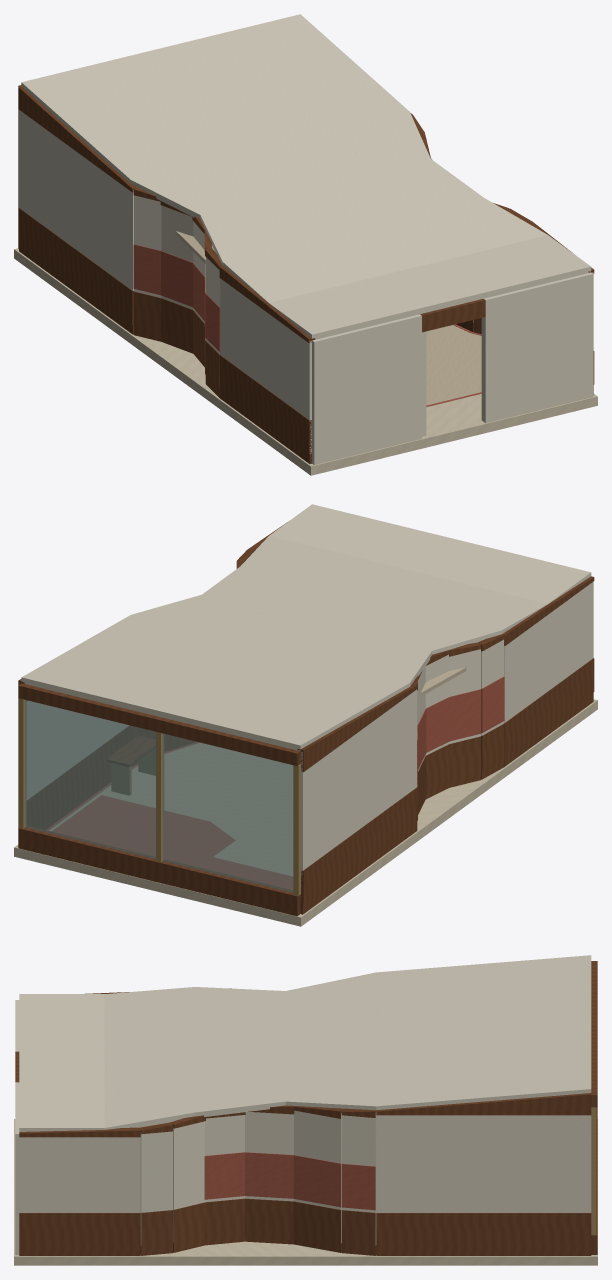
File: shell.glb
The picture shows the model from 3 angles, top to bottom: view 1: azimuth 30°, elevation 25°; view 2: azimuth 150°, elevation 25°; view 3: azimuth 270°, elevation 25°; orthographic projection.
Visible parts, largest first — view 1: SUI_Runtime_ivory_enamel, SUI_Runtime_warm_walnut, SUI_Runtime_warm_stone, SUI_Runtime_oatmeal_weave, SUI_Runtime_clay_weave; view 2: SUI_Runtime_ivory_enamel, SUI_Runtime_warm_walnut, SUI_Runtime_SuiteHospitalityGlass, SUI_Runtime_oatmeal_weave, SUI_Runtime_clay_weave, SUI_Runtime_warm_stone, SUI_Runtime_champagne_metal; view 3: SUI_Runtime_ivory_enamel, SUI_Runtime_warm_walnut, SUI_Runtime_warm_stone, SUI_Runtime_clay_weave, SUI_Runtime_champagne_metal.
Part boxes in pixels (x1,y1,x2,y2): SUI_Runtime_ivory_enamel: (19,14,593,464); SUI_Runtime_warm_walnut: (18,85,594,463); SUI_Runtime_warm_stone: (14,248,597,475); SUI_Runtime_oatmeal_weave: (175,231,481,405); SUI_Runtime_clay_weave: (133,244,481,406); SUI_Runtime_ivory_enamel: (19,504,593,885); SUI_Runtime_warm_walnut: (18,522,594,916); SUI_Runtime_SuiteHospitalityGlass: (25,700,293,892); SUI_Runtime_oatmeal_weave: (49,667,466,876); SUI_Runtime_clay_weave: (46,676,504,889); SUI_Runtime_warm_stone: (14,699,597,926); SUI_Runtime_champagne_metal: (18,698,300,895); SUI_Runtime_ivory_enamel: (15,955,591,1254); SUI_Runtime_warm_walnut: (15,961,597,1255); SUI_Runtime_warm_stone: (14,1119,597,1265); SUI_Runtime_clay_weave: (204,1152,375,1210); SUI_Runtime_champagne_metal: (591,1107,596,1235).
Size of the model in its own units: 7.2 by 4.26 by 12.9.
8 materials, 6 textured.
